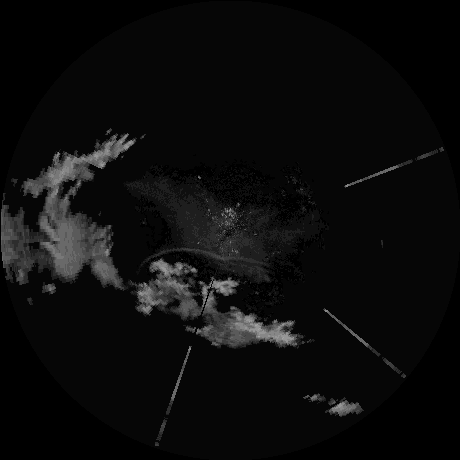frontgust: (151, 247, 266, 264)
